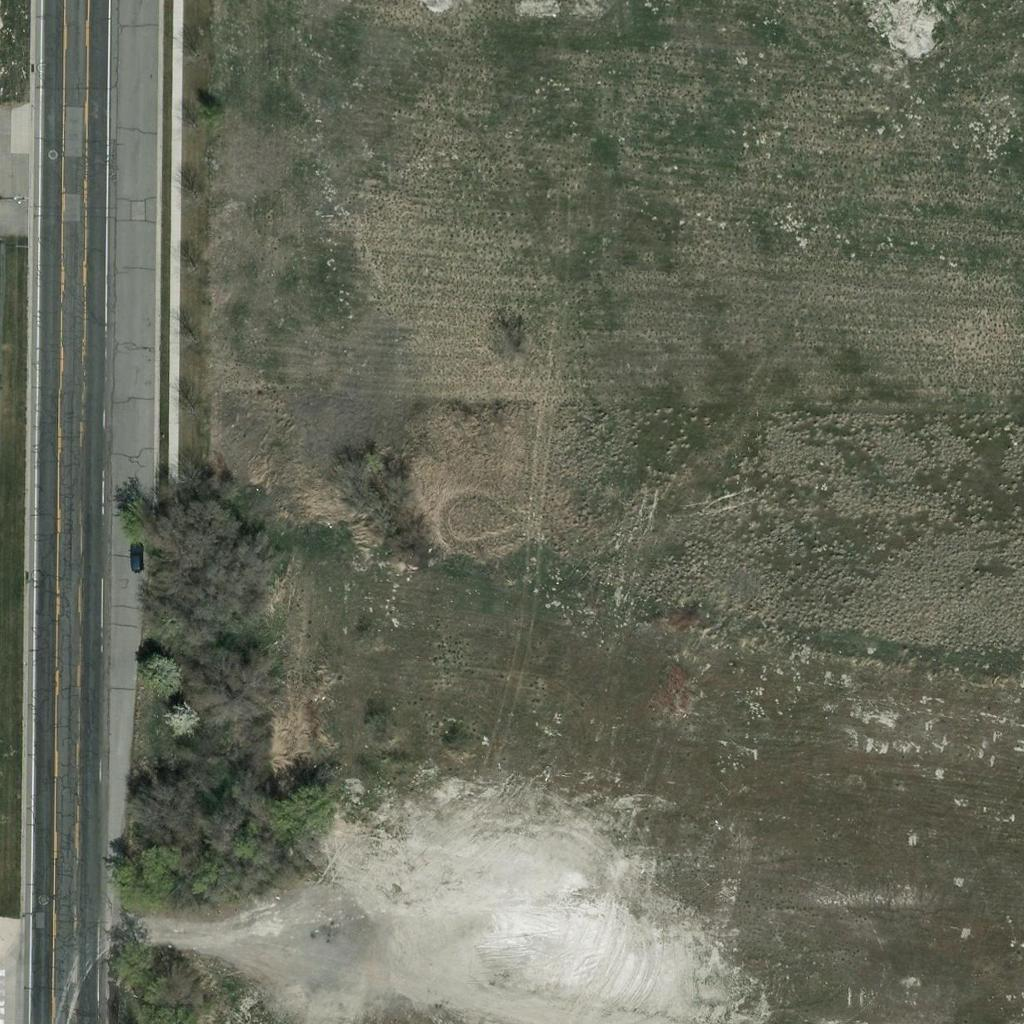car: (117, 539, 151, 573)
